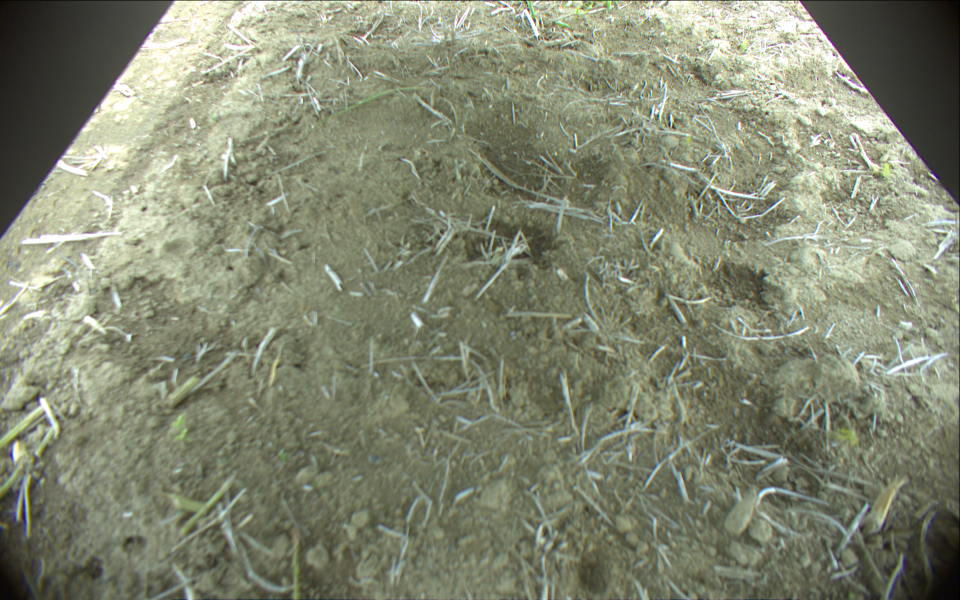aspa: (291, 529, 302, 600)
